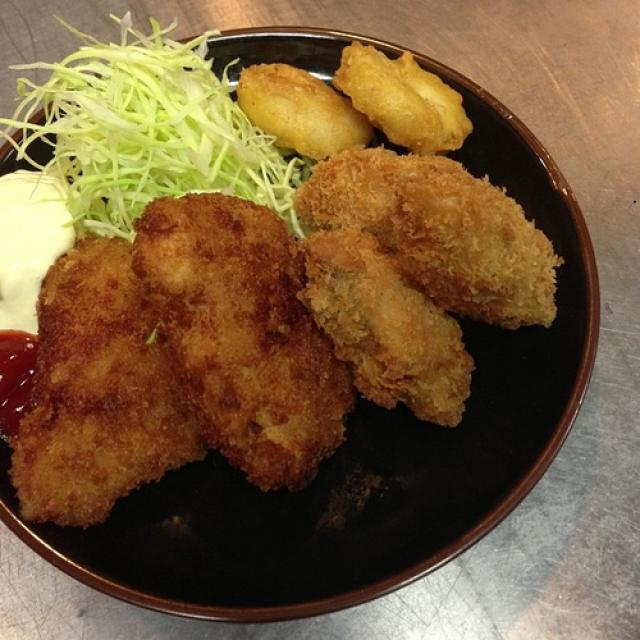鸡肉料理 含炸鸡: (27, 23, 595, 616)
